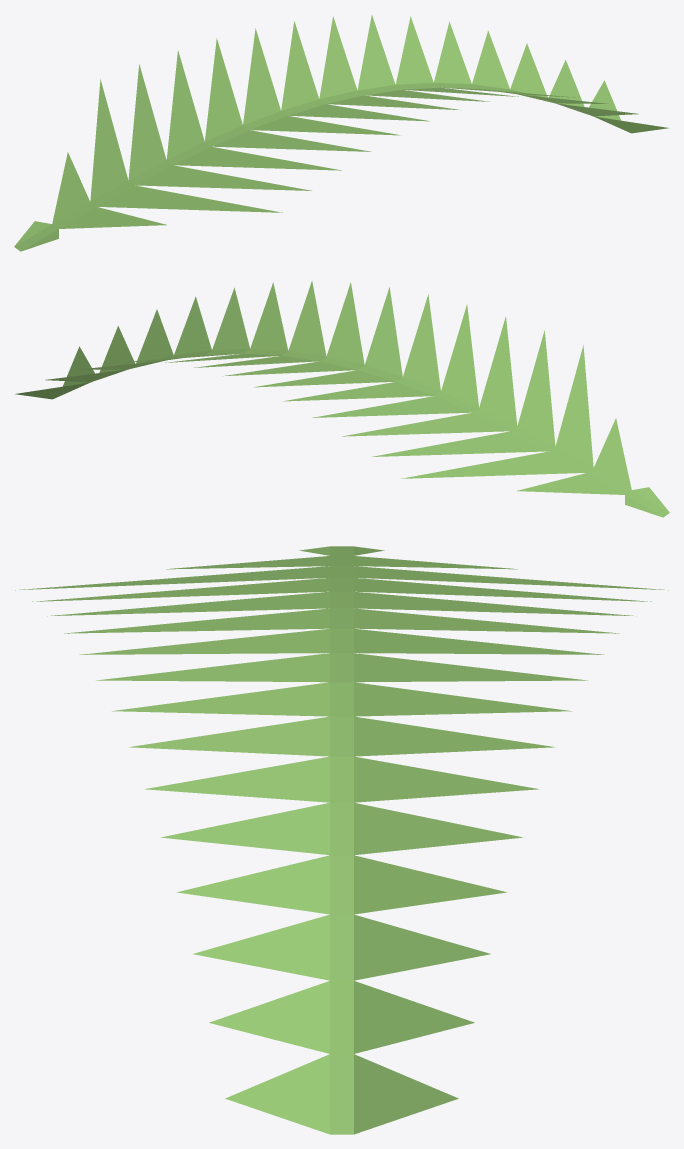
File: leaf_final.glb
3 views of the same model, one above another, from view 1: azimuth 30°, elevation 25°; view 2: azimuth 150°, elevation 25°; view 3: azimuth 270°, elevation 25° (orthographic). The views are drawn at different scales.
Parts seen in each view (by area): view 1: Leaf; view 2: Leaf; view 3: Leaf.
Boxes of the visible parts, <box> form: Leaf: <box>14,15,668,251</box>; Leaf: <box>15,281,669,517</box>; Leaf: <box>15,546,668,1134</box>.
Bounding box in the file's own units: 1.07 × 0.2048 × 0.546.
